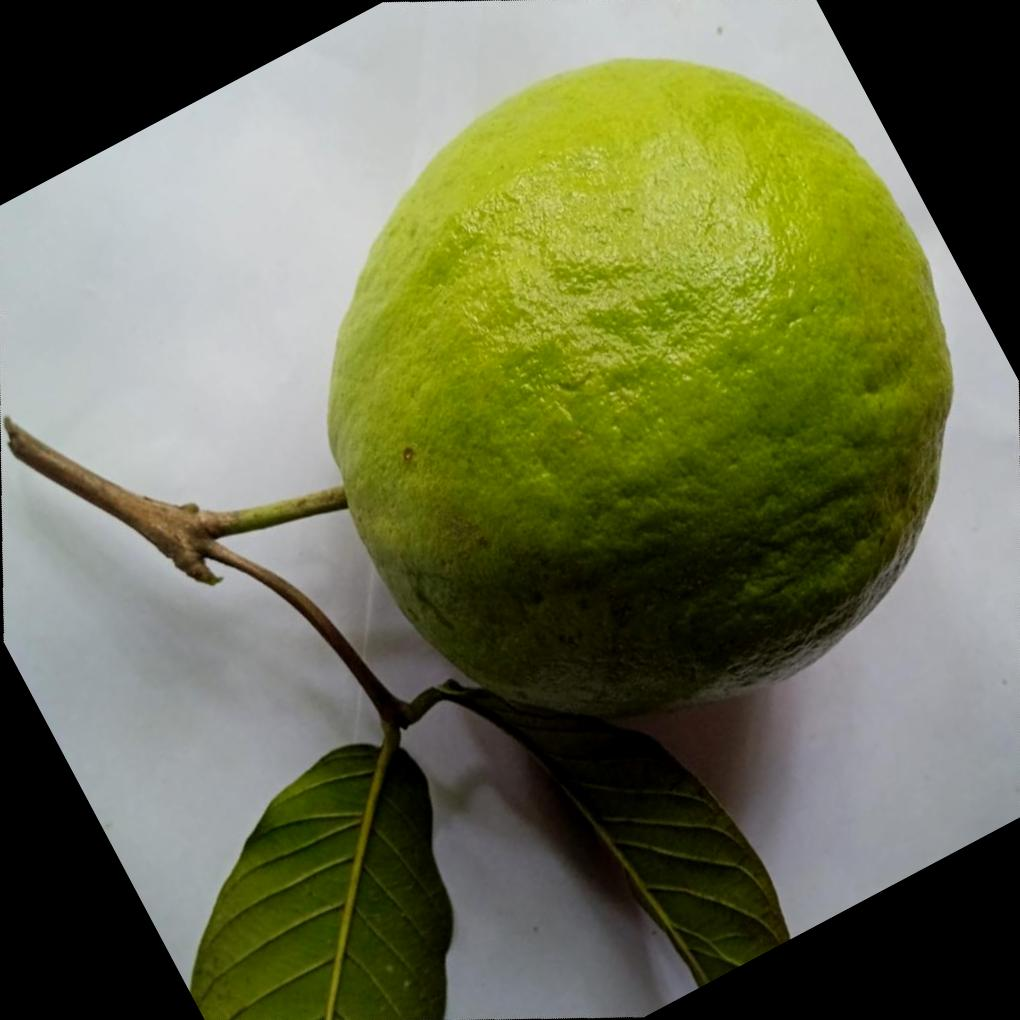FreshGuava: (322, 51, 952, 720)
